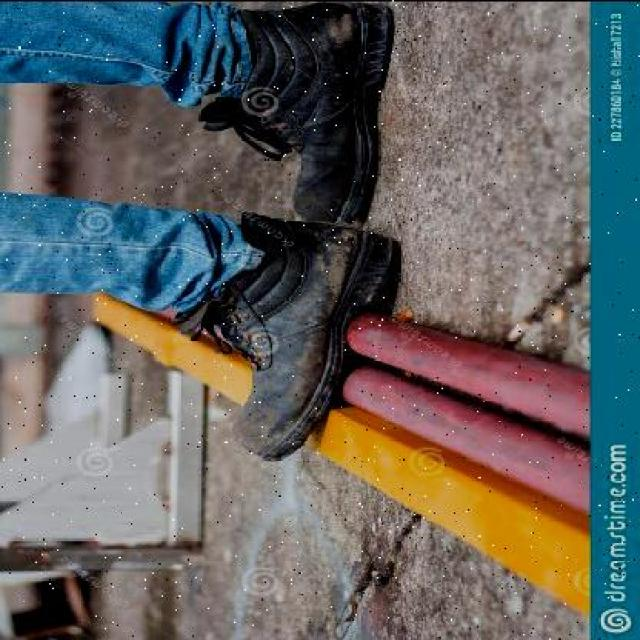shoes: (221, 215, 407, 458), (208, 2, 404, 213)
